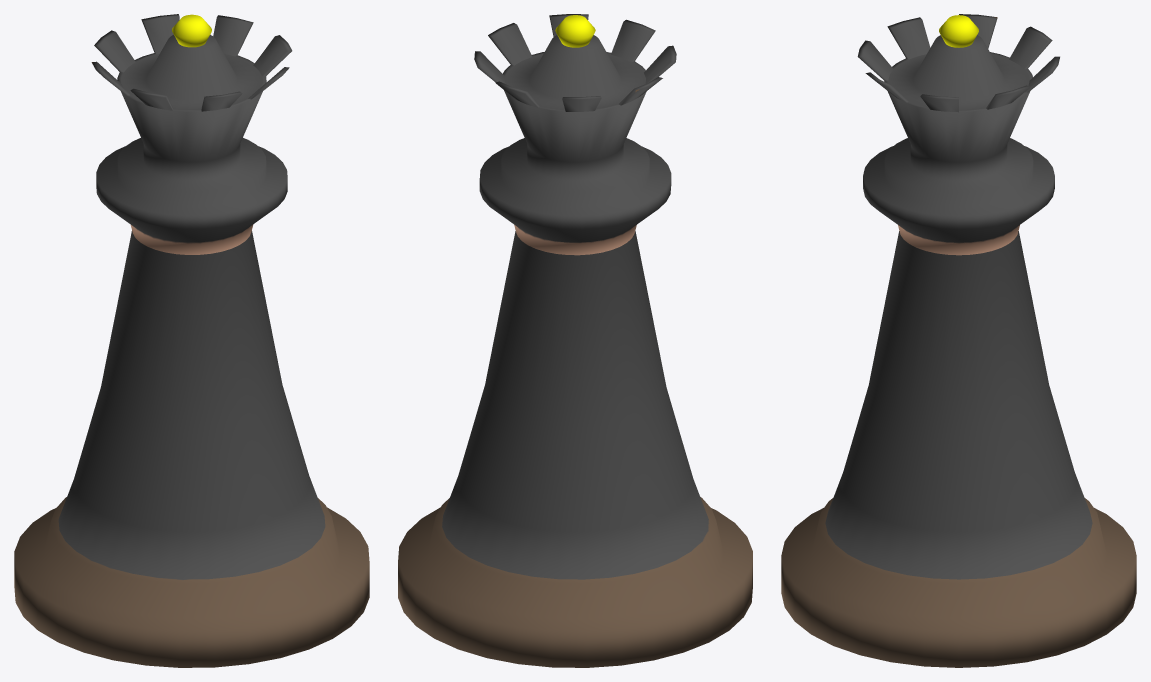
Rendered from Queen.gltf.
The picture shows the model from 3 angles, left to right: view 1: azimuth 30°, elevation 25°; view 2: azimuth 150°, elevation 25°; view 3: azimuth 270°, elevation 25°; orthographic projection.
Visible parts, largest first — view 1: クイーン.001; view 2: クイーン.001; view 3: クイーン.001.
Boxes of the visible parts, left/top/right/bottom form: クイーン.001: left=14, top=14, right=369, bottom=667; クイーン.001: left=398, top=14, right=752, bottom=667; クイーン.001: left=781, top=14, right=1136, bottom=667.
Bounding box in the file's own units: 0.8681 × 1.54 × 0.8681.
1 material, 1 textured.
